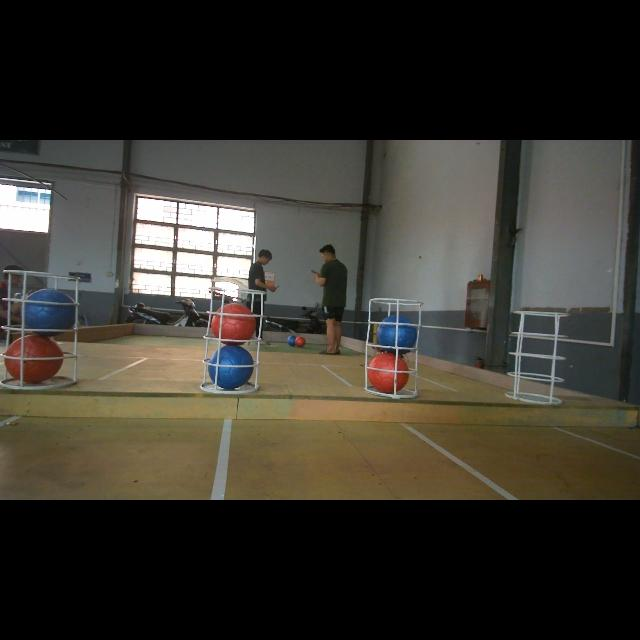B: (22, 288, 76, 334), (208, 346, 255, 390), (376, 314, 418, 354)
R: (5, 335, 63, 383), (210, 302, 258, 346), (368, 352, 414, 394)
